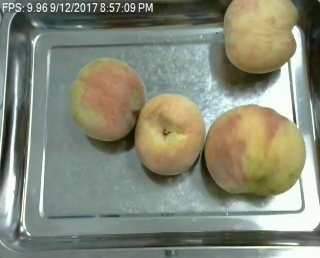Peach: (205, 103, 305, 195), (69, 57, 145, 142), (134, 92, 205, 175), (221, 0, 299, 74)
